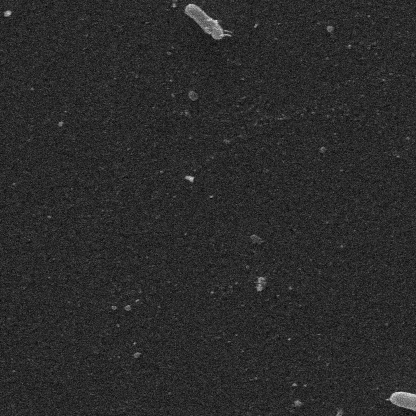cell2surface: (0, 405, 9, 416)
filament: (389, 391, 416, 416)
regular: (182, 1, 224, 40)
